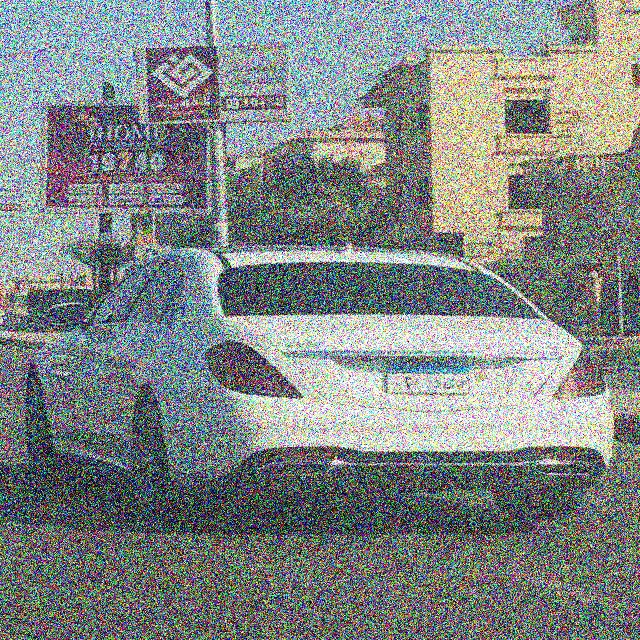License Plate: (387, 358, 472, 395)
